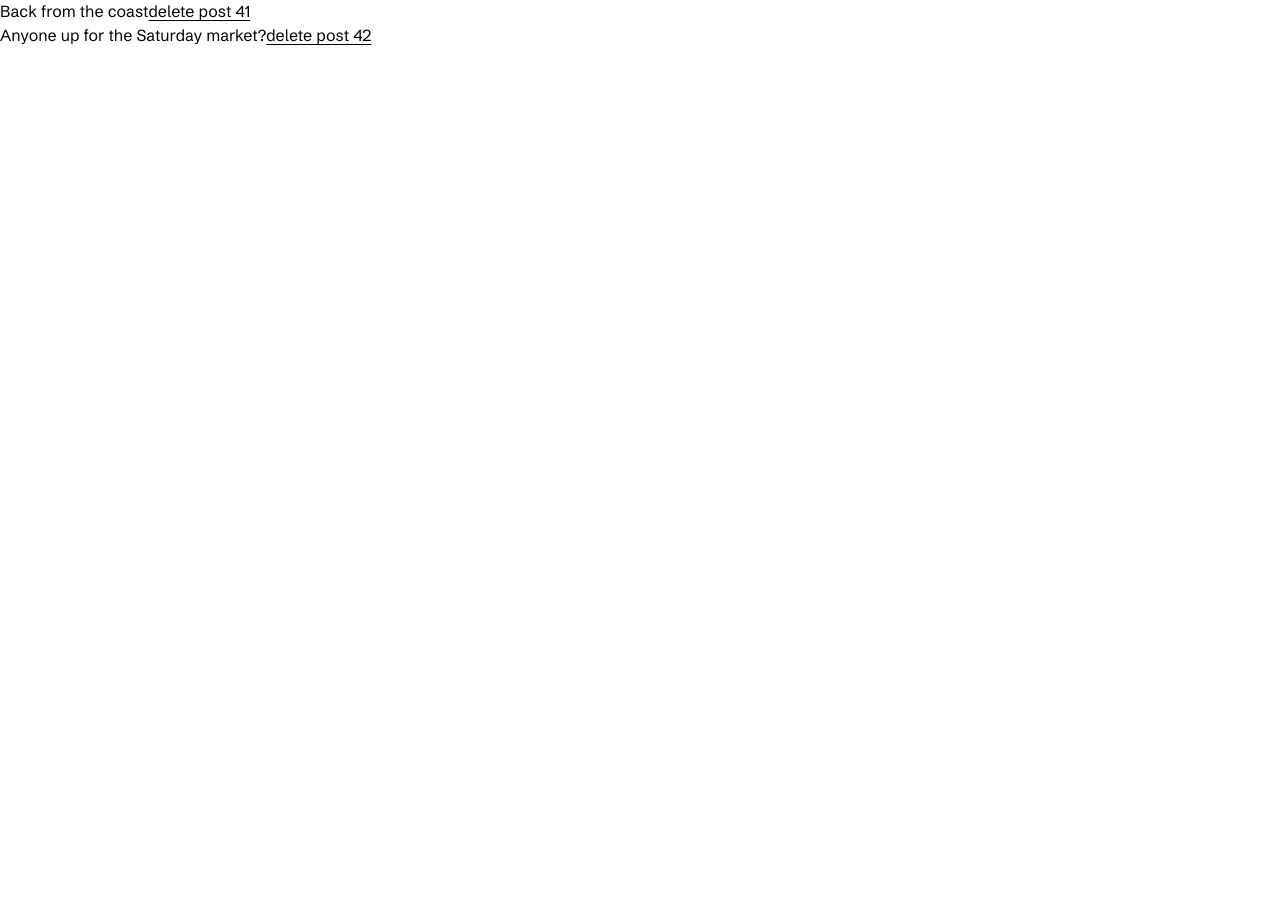
Test: useConfirm › opens for the requested target and runs the action for exactly that target
Click the button "delete post 42" at (319, 36), box [266, 24, 372, 48]
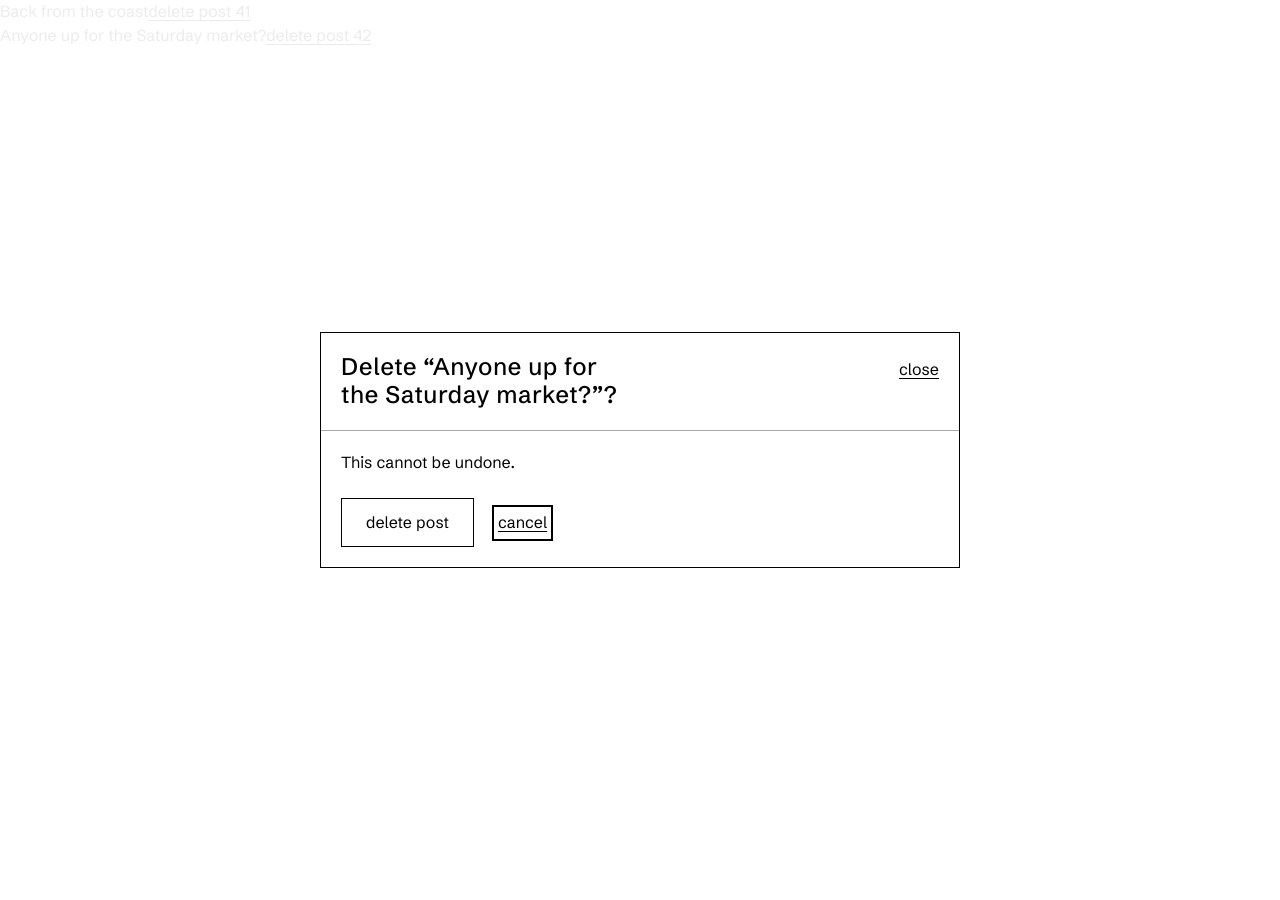
Expected: the dialog "Delete “Anyone up for the Saturday market?”?" is shown, [320, 332, 960, 568]
Click the button "delete post" at (407, 523), box [341, 498, 474, 548]
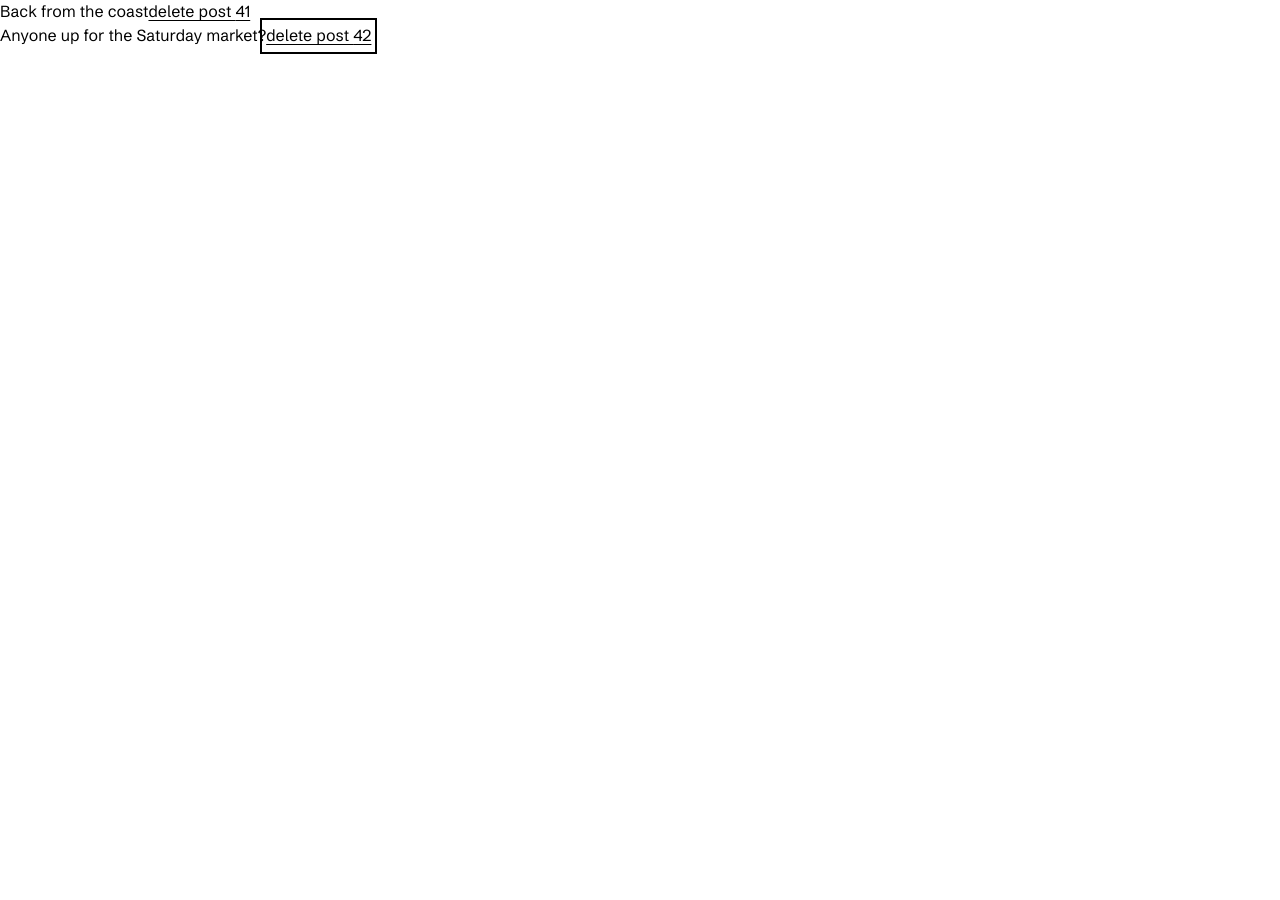
Expected: the dialog is gone
